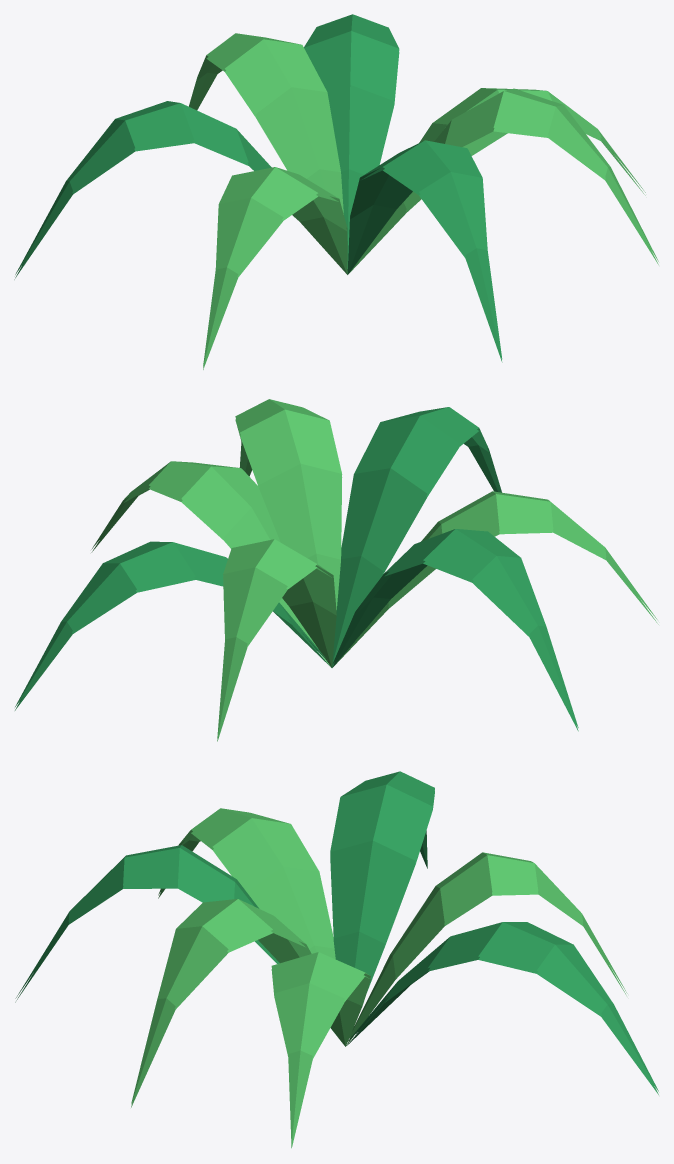
The model's file is Fern2.fbx.
3 views of the same model, one above another, from view 1: azimuth 30°, elevation 25°; view 2: azimuth 150°, elevation 25°; view 3: azimuth 270°, elevation 25° (orthographic).
Visible parts, largest first — view 1: Fern2; view 2: Fern2; view 3: Fern2.
Part boxes in pixels (left/top/right/bottom): Fern2: left=14, top=14, right=658, bottom=369; Fern2: left=15, top=399, right=658, bottom=741; Fern2: left=15, top=771, right=658, bottom=1148.
Size of the model in its own units: 2.1 by 0.7059 by 2.09.
1 material, 1 textured.
